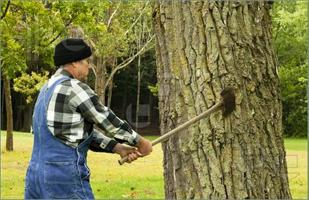person: (25, 39, 154, 200)
